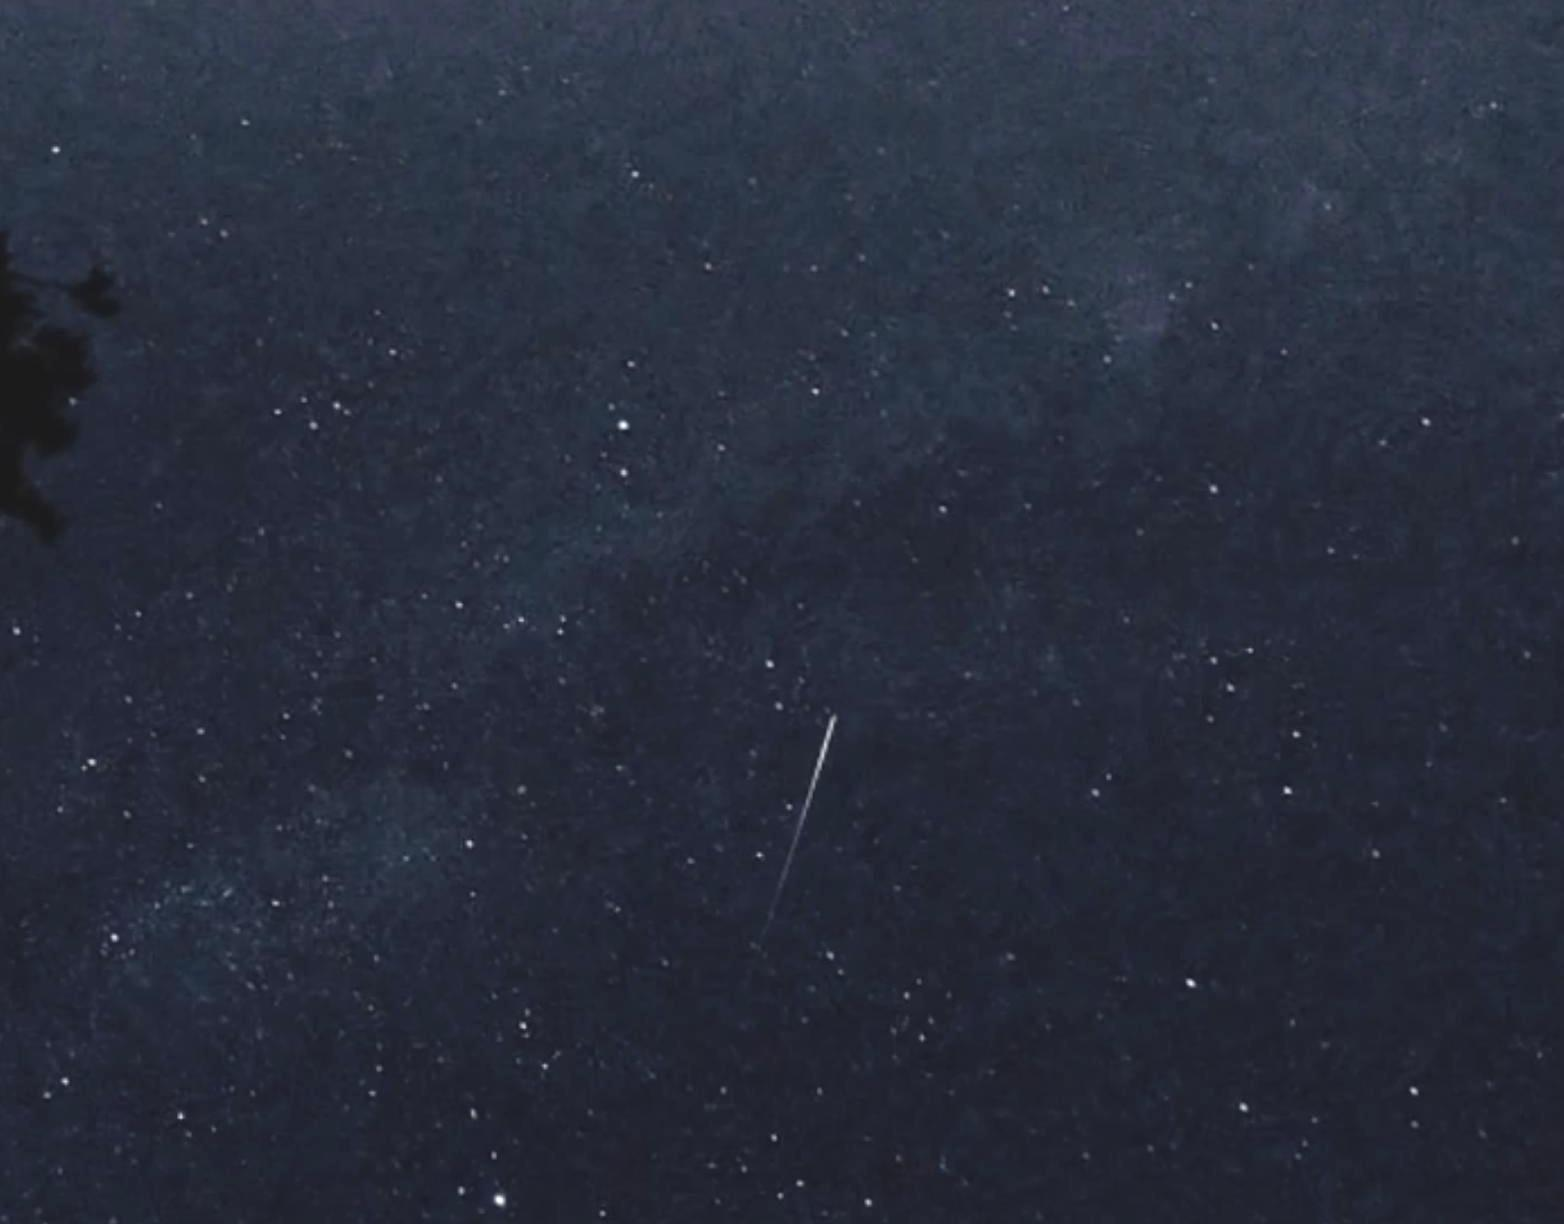meteorite: (765, 684, 861, 907)
